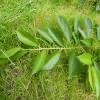Cherry leaf: (52, 11, 73, 44), (14, 24, 39, 48), (30, 49, 47, 79), (68, 47, 80, 88), (47, 24, 65, 48), (43, 50, 63, 71), (35, 25, 53, 45), (75, 50, 94, 67), (73, 15, 84, 38), (88, 65, 96, 95)
